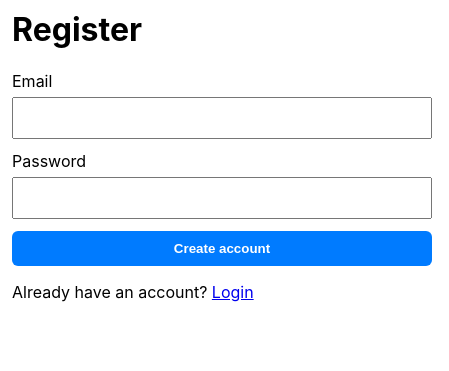
Register page › shows backend error on failure
Step 1. Type "a@b.com" into the field labelled "Email" → (222, 118), box [12, 97, 432, 139]
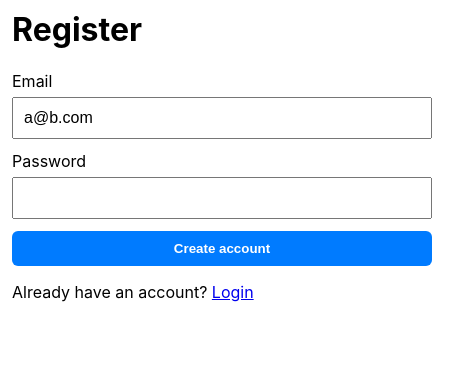
Step 2. Type "password123" into the password field labelled "Password" → (222, 198), box [12, 177, 432, 219]
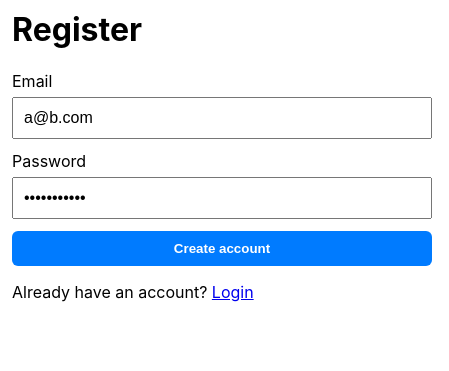
Step 3. Click the button "Create account" → (222, 248), box [12, 231, 432, 266]
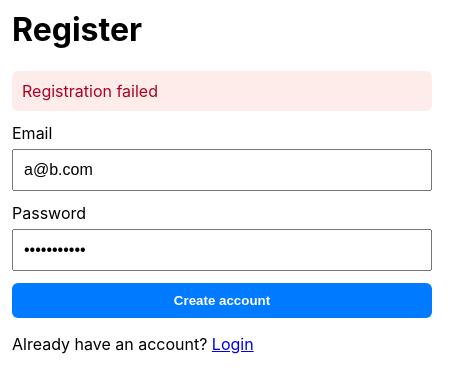
Now the message reads "Registration failed", box [22, 81, 158, 101]
